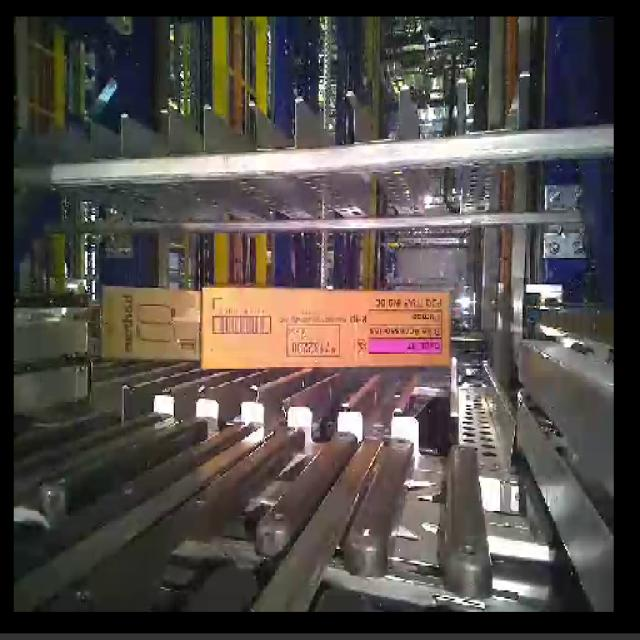box: (201, 287, 450, 372)
